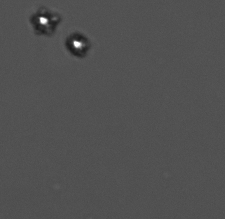Living Cell: (66, 32, 89, 55), (32, 8, 53, 32)
